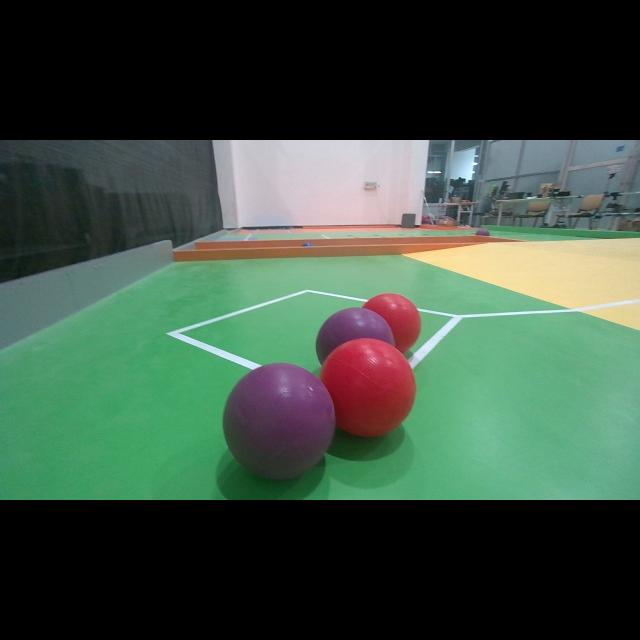P: (223, 362, 335, 482), (313, 308, 392, 376)
R: (320, 337, 416, 437), (362, 294, 422, 358)
